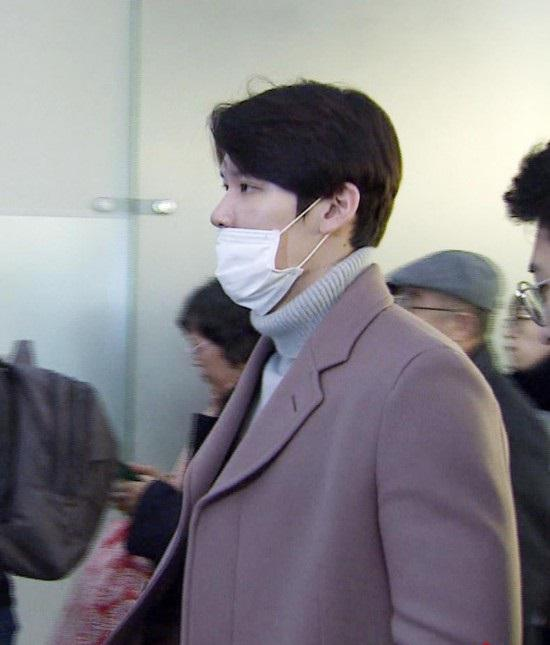NONE: (188, 332, 242, 391), (504, 304, 550, 368)
WRONG: (207, 163, 356, 312)
